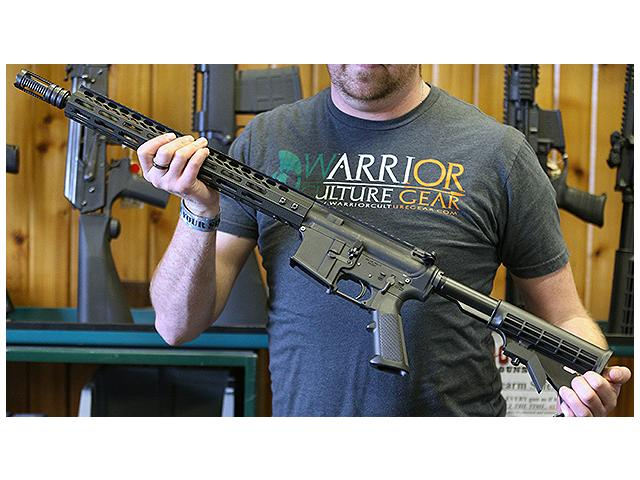rifle: (13, 68, 616, 387)
